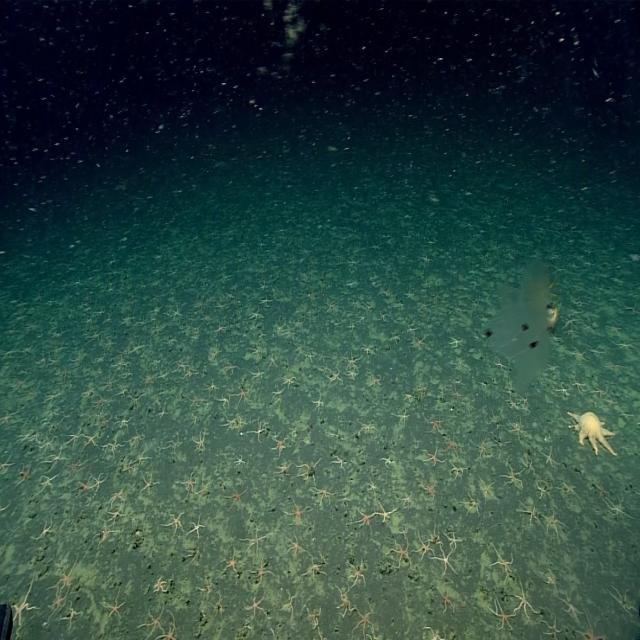brittle-stars: (10, 584, 38, 628), (489, 599, 514, 633), (611, 585, 638, 616), (352, 605, 375, 640), (53, 562, 78, 593), (103, 590, 126, 623), (242, 526, 267, 556), (515, 581, 535, 618), (140, 608, 164, 638), (390, 538, 410, 570), (492, 548, 513, 578), (580, 617, 606, 640), (285, 499, 307, 526), (221, 546, 239, 578), (520, 500, 542, 526), (545, 510, 566, 537), (436, 546, 456, 574), (50, 589, 70, 617), (561, 592, 581, 620), (348, 560, 367, 588), (252, 559, 274, 583), (336, 585, 354, 614), (63, 602, 83, 628), (245, 594, 267, 617), (43, 448, 67, 469), (415, 532, 434, 558), (298, 459, 320, 481), (164, 512, 185, 535), (284, 532, 304, 556), (543, 616, 563, 640), (479, 477, 498, 502), (376, 503, 398, 524), (605, 497, 627, 518), (306, 555, 325, 579), (420, 476, 438, 501), (228, 486, 248, 508), (502, 464, 522, 486), (160, 618, 180, 640), (34, 519, 54, 541), (140, 472, 158, 496), (462, 494, 481, 516), (445, 434, 462, 458), (280, 592, 297, 616), (38, 474, 58, 494), (95, 524, 115, 544), (312, 487, 333, 506), (440, 590, 456, 614), (355, 508, 374, 528), (424, 446, 442, 467), (540, 446, 557, 468), (167, 434, 184, 456), (107, 506, 126, 525), (509, 420, 527, 440), (180, 473, 197, 494), (155, 573, 172, 594), (187, 517, 203, 539), (422, 626, 447, 640), (108, 488, 126, 507), (128, 432, 145, 452), (76, 478, 93, 498), (306, 604, 323, 624), (18, 463, 34, 484), (541, 568, 556, 590), (568, 346, 586, 364), (0, 409, 17, 428), (272, 436, 288, 456), (446, 529, 462, 549), (198, 481, 214, 501), (478, 438, 492, 460), (0, 454, 14, 476), (358, 420, 375, 438), (570, 376, 587, 394), (105, 438, 122, 456), (68, 457, 86, 474), (39, 435, 55, 454), (194, 429, 208, 450), (235, 386, 251, 404), (66, 428, 82, 446), (251, 421, 265, 441), (92, 474, 106, 494), (616, 340, 636, 354), (560, 482, 577, 498), (588, 343, 605, 359), (185, 547, 202, 563), (334, 453, 349, 471), (426, 416, 441, 434), (428, 527, 442, 546), (276, 460, 292, 476), (344, 352, 360, 368), (450, 462, 466, 478), (115, 356, 131, 372), (85, 431, 100, 448), (116, 413, 131, 430), (142, 370, 156, 388), (221, 414, 235, 432), (556, 382, 571, 398), (222, 359, 237, 375), (312, 391, 324, 411), (187, 391, 202, 407), (43, 392, 58, 408), (44, 409, 60, 424), (130, 340, 144, 357), (536, 482, 550, 499), (208, 344, 222, 361), (522, 456, 535, 474), (604, 360, 622, 373), (0, 499, 10, 522), (592, 385, 607, 400), (448, 336, 464, 350), (395, 409, 409, 425), (250, 364, 264, 380), (217, 393, 231, 409), (382, 454, 396, 470), (83, 383, 97, 399), (493, 358, 508, 372), (272, 385, 286, 400), (96, 392, 109, 408), (137, 450, 150, 466), (103, 374, 116, 390), (268, 351, 280, 368), (452, 384, 464, 401), (283, 375, 297, 389), (346, 366, 360, 380), (367, 374, 380, 389), (454, 354, 467, 369), (328, 369, 340, 385), (183, 364, 195, 380), (418, 379, 430, 395), (215, 321, 228, 335), (292, 316, 305, 330), (604, 394, 618, 407), (98, 414, 111, 428), (596, 483, 609, 497), (89, 328, 102, 341), (260, 294, 274, 306), (250, 308, 262, 322), (124, 460, 136, 474), (206, 380, 218, 394), (120, 312, 132, 326), (250, 346, 262, 360), (275, 320, 287, 334), (362, 344, 374, 358), (452, 300, 464, 314), (326, 300, 338, 314), (317, 349, 328, 364), (368, 631, 386, 640), (404, 490, 414, 506), (508, 396, 520, 409), (415, 337, 427, 350), (418, 300, 431, 312), (120, 382, 132, 395), (565, 326, 578, 338), (564, 316, 577, 328), (235, 454, 246, 468), (151, 354, 162, 368), (196, 298, 207, 312), (405, 390, 416, 404), (294, 341, 304, 356), (150, 305, 162, 317), (312, 631, 328, 640), (407, 324, 419, 336), (345, 278, 357, 290), (188, 412, 200, 424), (378, 310, 389, 323), (319, 361, 330, 374), (367, 480, 377, 494), (520, 394, 530, 408), (172, 306, 182, 320), (236, 415, 246, 429), (356, 312, 367, 324), (394, 300, 405, 312), (260, 281, 271, 293), (306, 288, 316, 301), (406, 288, 416, 300), (351, 298, 361, 310), (160, 368, 170, 380), (203, 313, 213, 324), (472, 332, 481, 344), (257, 331, 266, 343), (305, 352, 316, 361)
